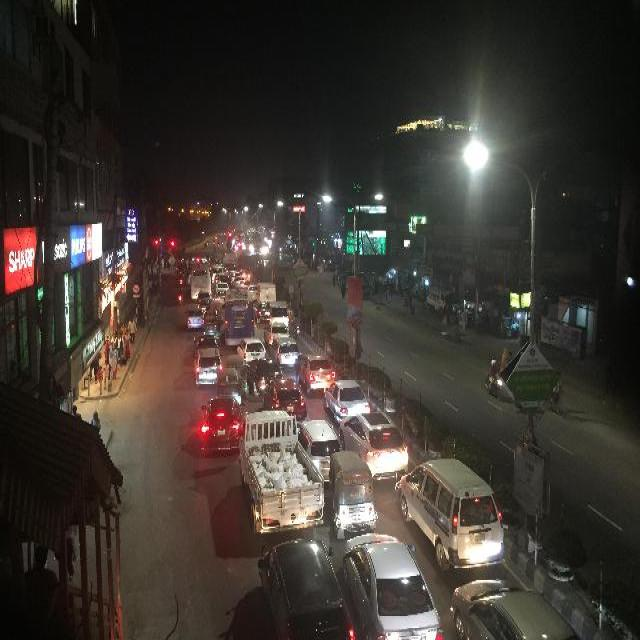16-Wheelers: (214, 400, 326, 562)
